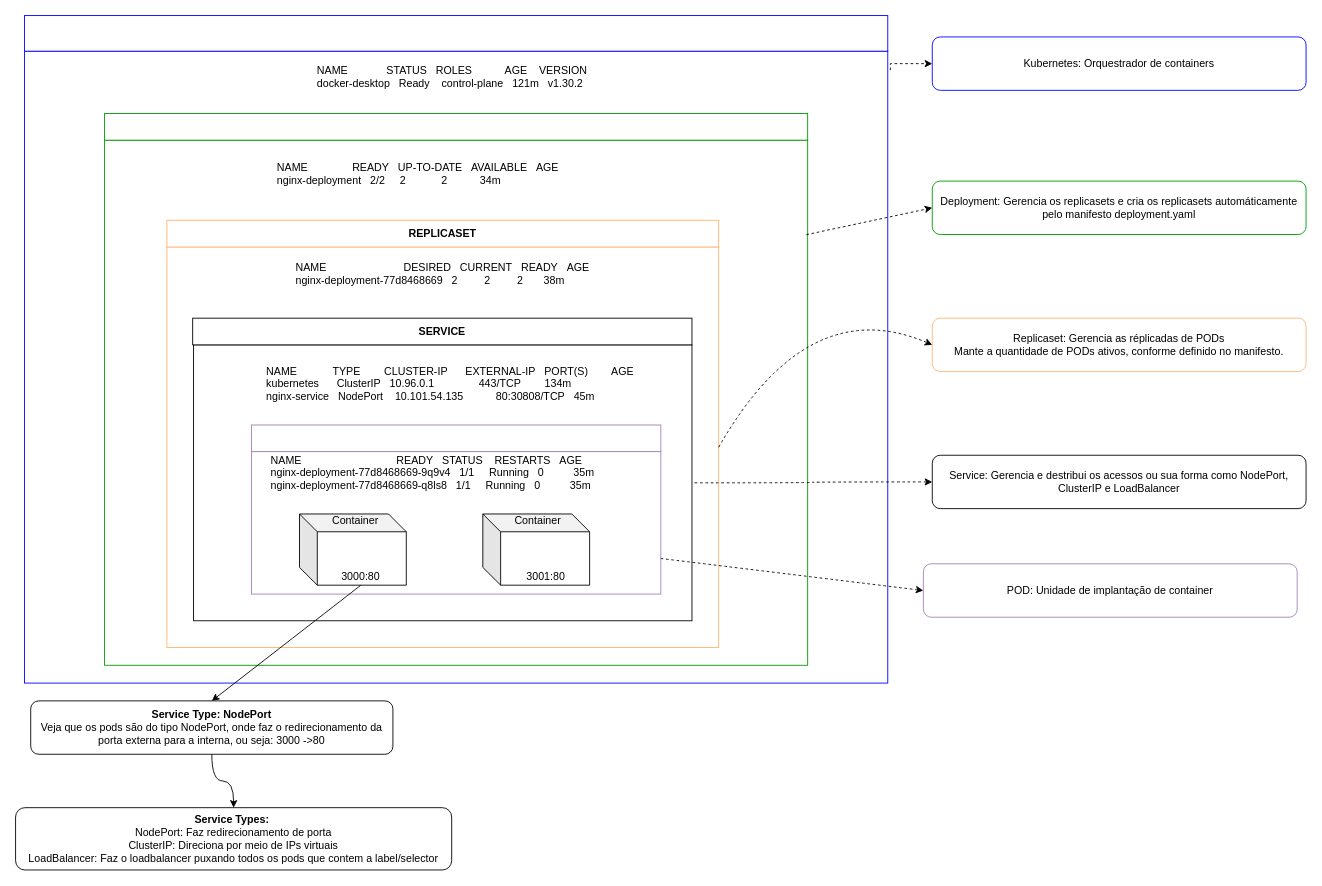
The diagram is 1322 pixels wide and 886 high, and some of its shapes have lost their labels. Each missing label, with the box of its shape:
CLUSTER KUBERNETES: (24, 15, 888, 51)
DEPLOYMENT: (104, 113, 808, 140)
Nginx01: (299, 513, 406, 585)
Nginx02: (482, 513, 590, 585)
POD: (251, 424, 661, 452)
